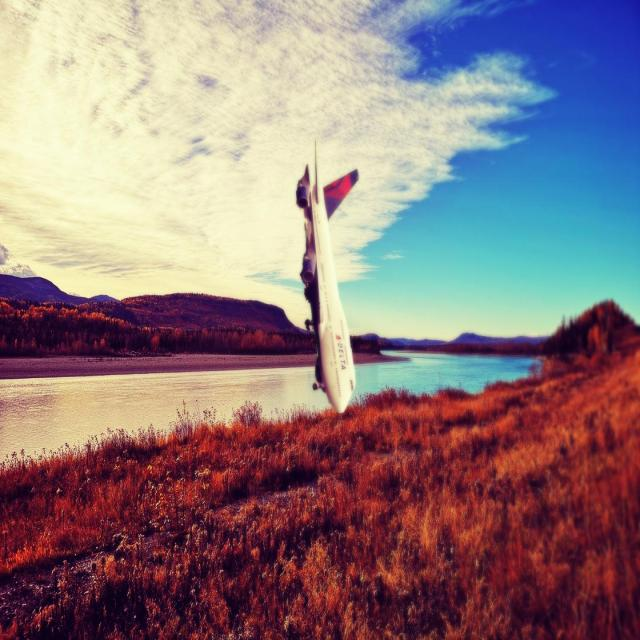airplane: (295, 138, 359, 414)
